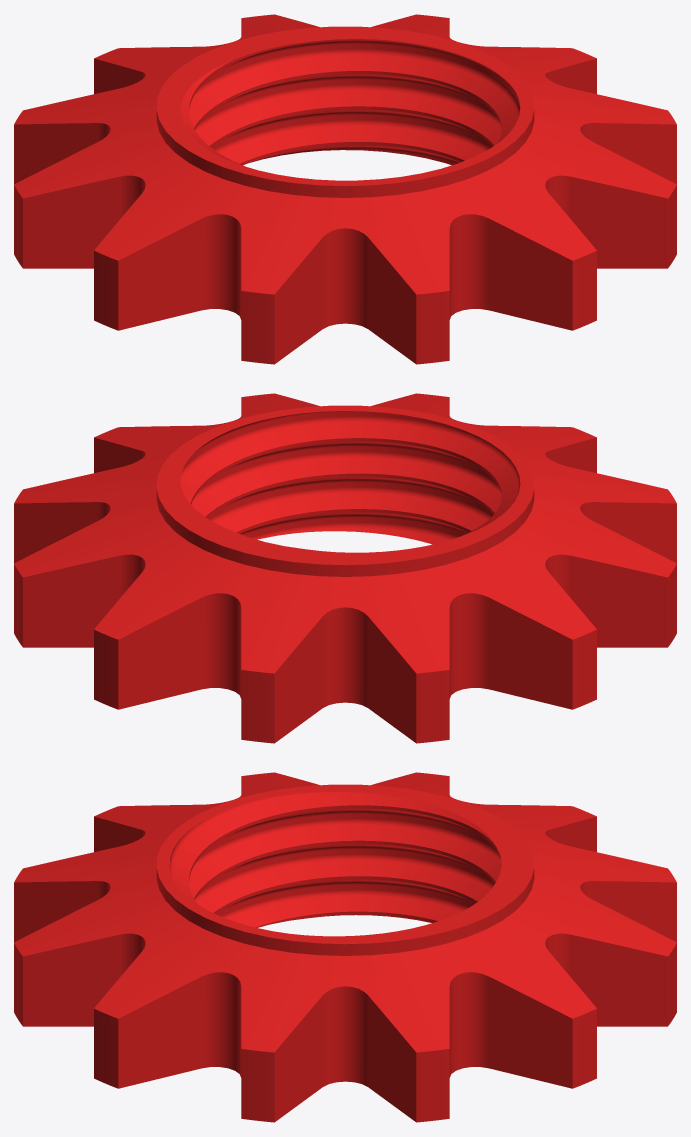
Rendered from Nut1.glb.
3 views of the same model, one above another, from view 1: azimuth 30°, elevation 25°; view 2: azimuth 150°, elevation 25°; view 3: azimuth 270°, elevation 25° (orthographic).
Parts seen in each view (by area): view 1: Solid1.002; view 2: Solid1.002; view 3: Solid1.002.
Boxes of the visible parts, box(x1,y1,x2,y2) form: Solid1.002: box(14, 14, 676, 364); Solid1.002: box(14, 393, 676, 743); Solid1.002: box(14, 772, 676, 1122).
Size of the model in its own units: 0.0508 by 0.01 by 0.0508.
